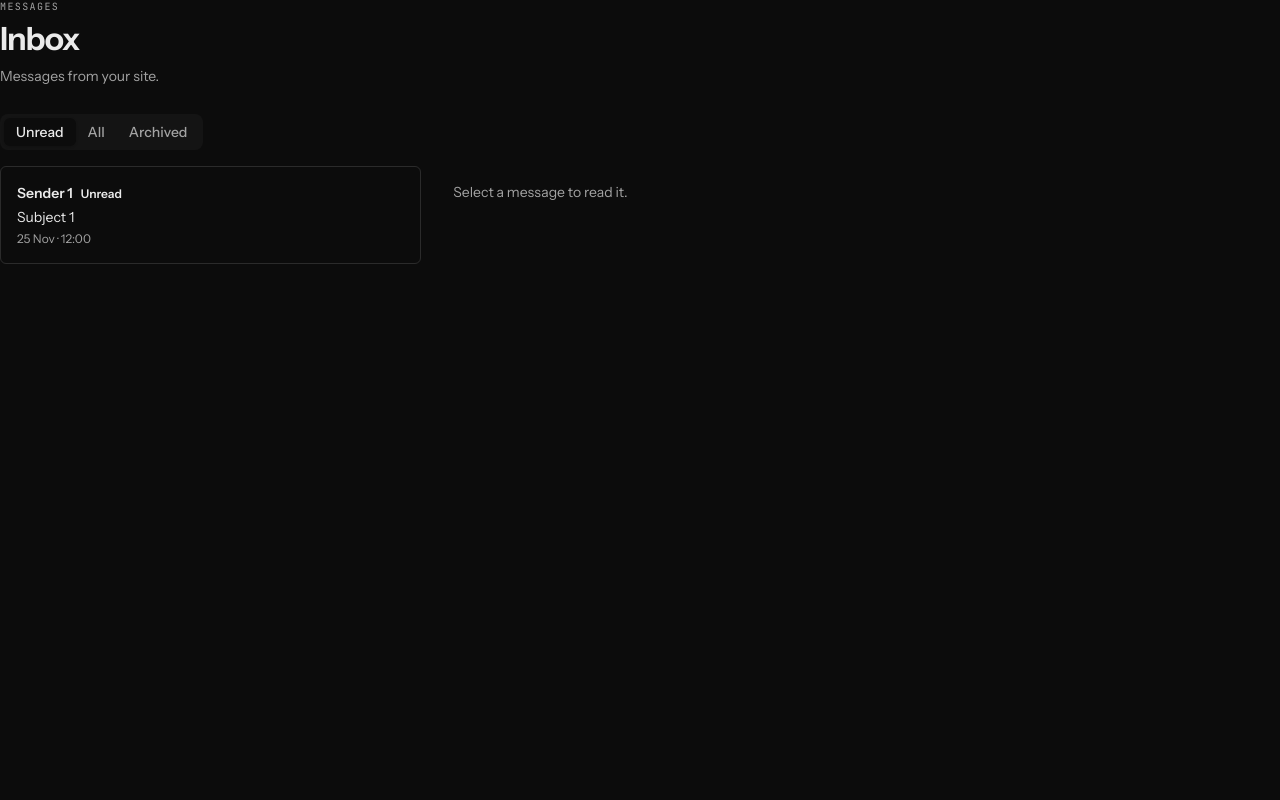
Test case: messages inbox › returns mobile sheet focus after archive
Click the tab "All".
click(96, 132)  # box [76, 118, 117, 146]
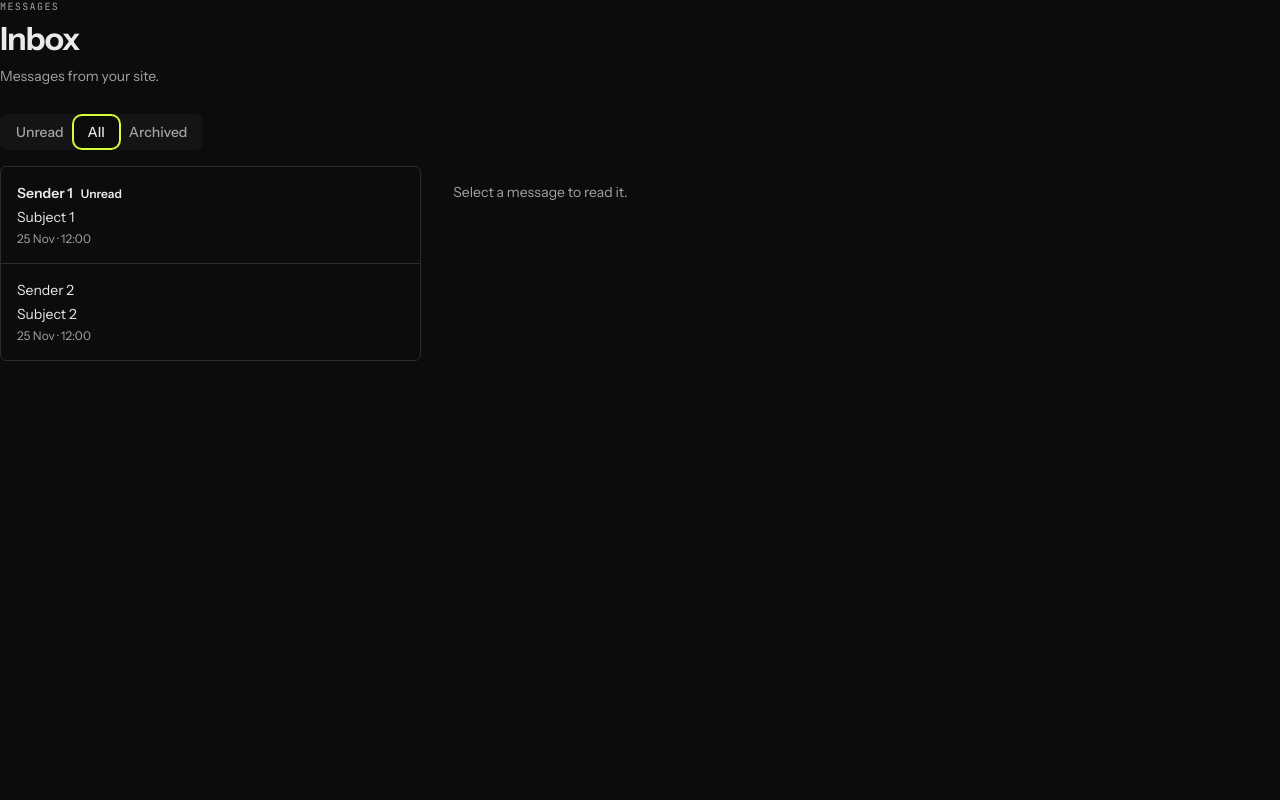
Click the button "Sender 1Unread Subject 1 25 Nov · 12:00".
click(45, 193)  # box [1, 167, 420, 263]
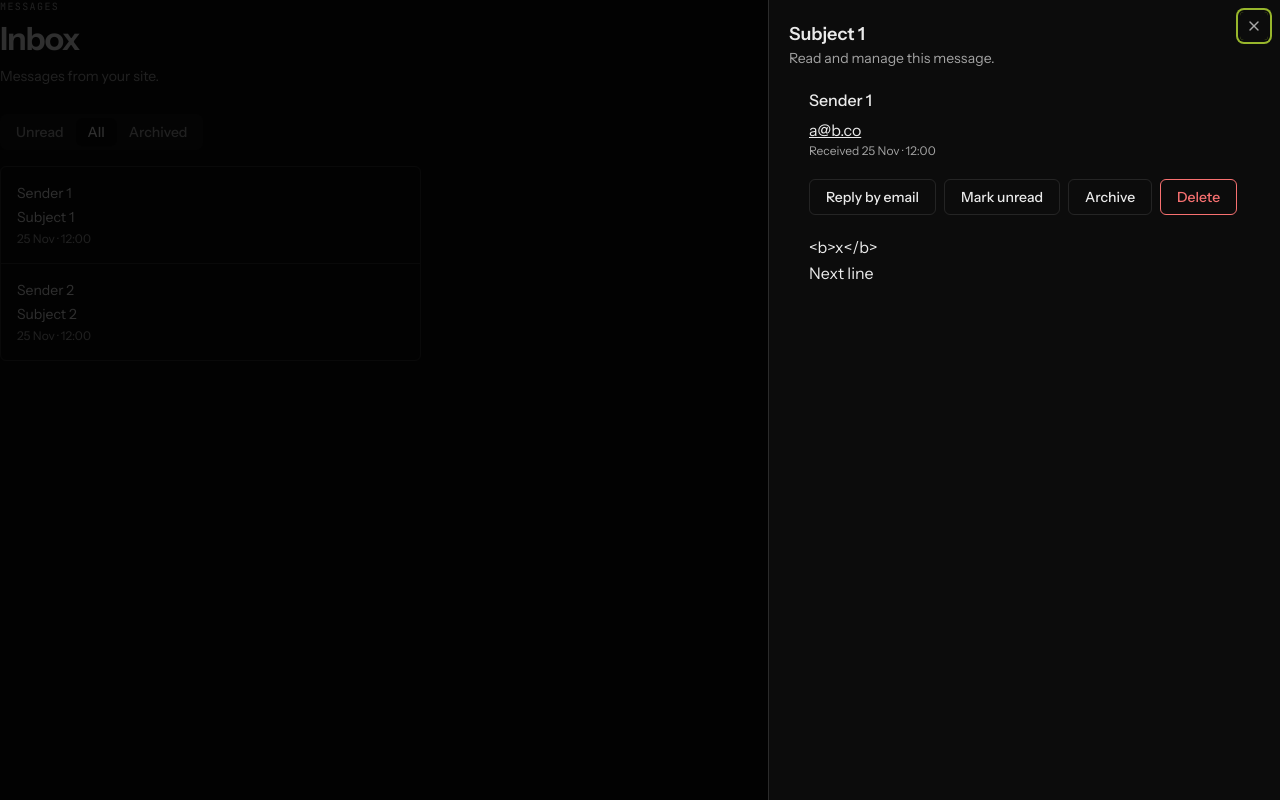
Click the button "Archive".
click(1110, 197)  # box [1068, 179, 1152, 215]
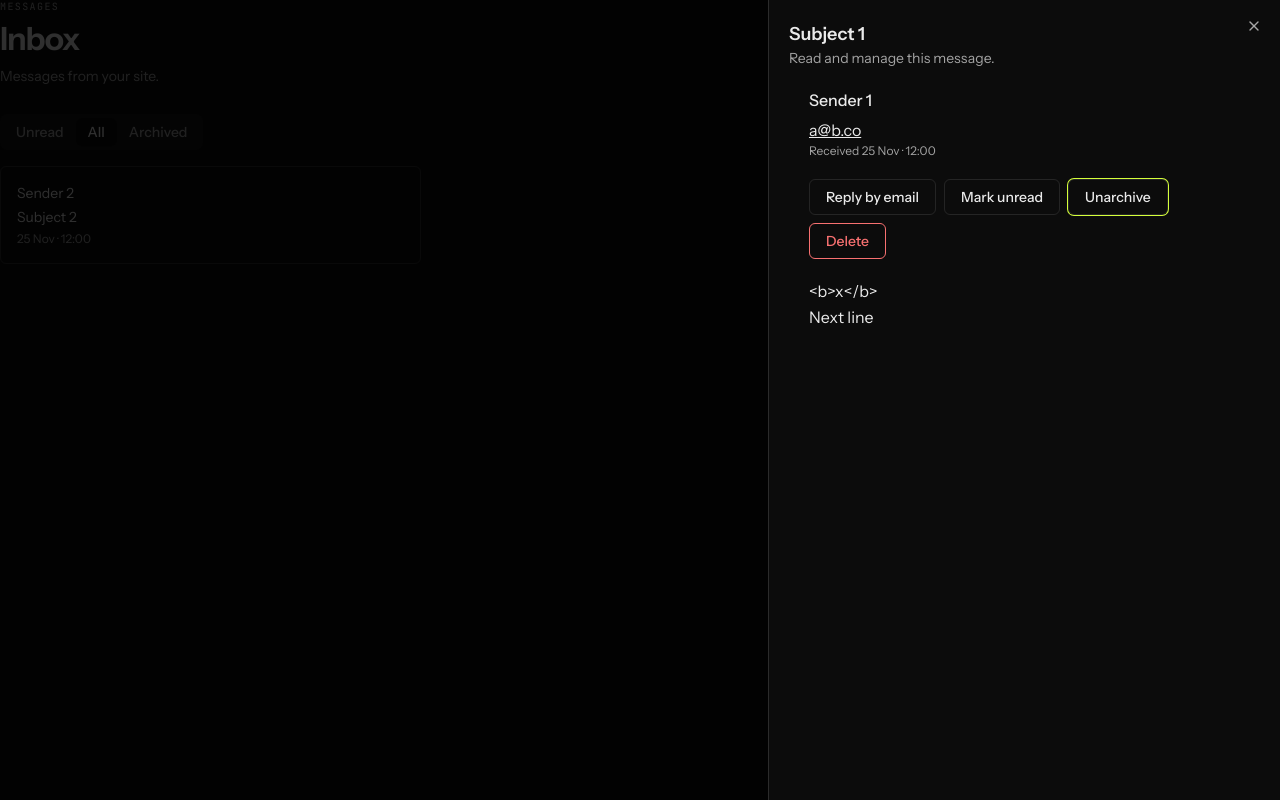
Click the button named "Close".
click(1254, 26)  # box [1240, 12, 1268, 40]
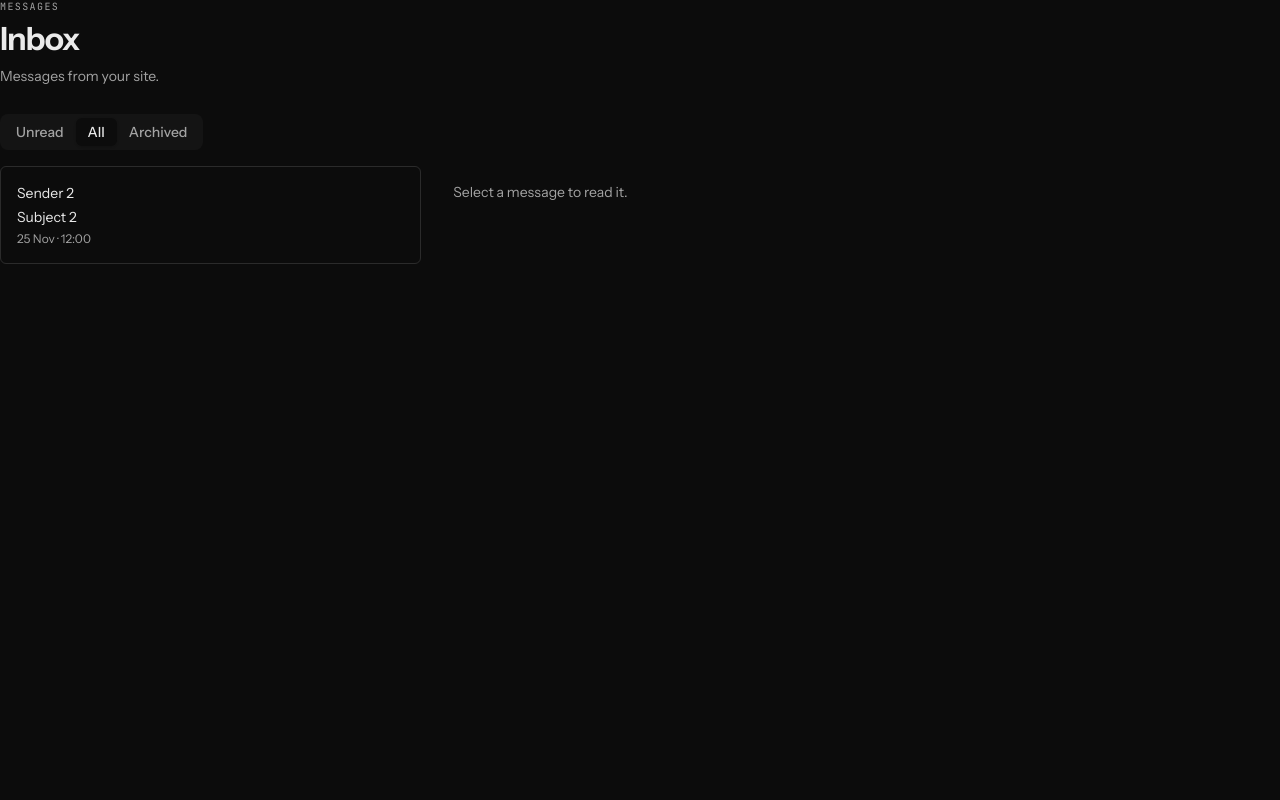
Expected: the dialog is gone
